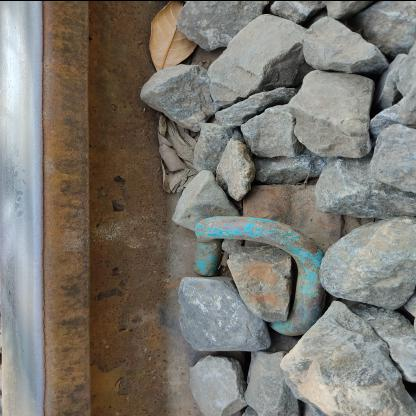Non Defective: (184, 175, 366, 343)
